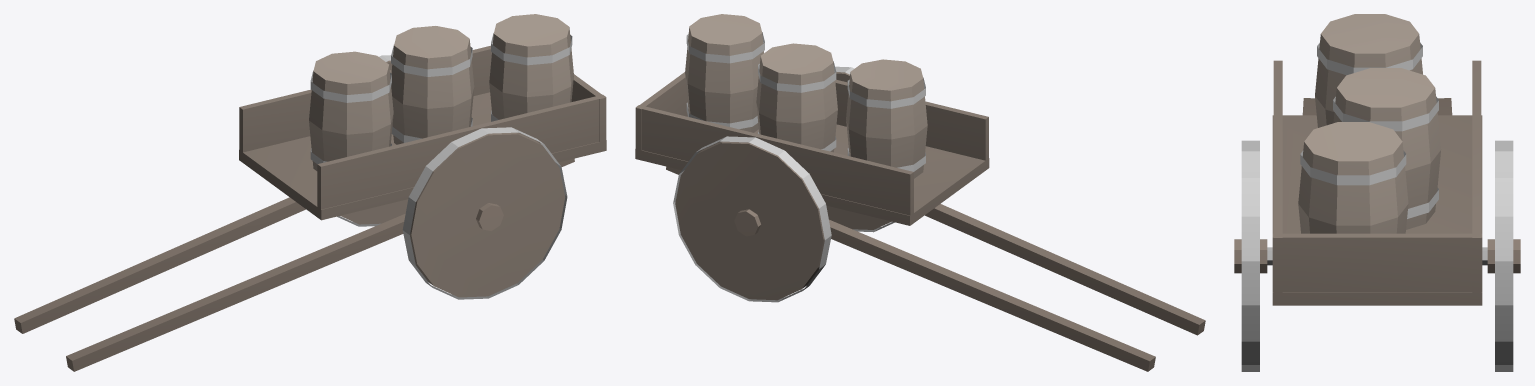
Rendered from cart_0.glb.
3 renders of one model, left to right at view 1: azimuth 30°, elevation 25°; view 2: azimuth 150°, elevation 25°; view 3: azimuth 270°, elevation 25°, orthographic. The views are drawn at different scales.
Visible parts, largest first — view 1: cart_0; view 2: cart_0; view 3: cart_0.
Boxes of the visible parts, left/top/right/bottom form: cart_0: left=14, top=14, right=606, bottom=371; cart_0: left=635, top=14, right=1205, bottom=371; cart_0: left=1234, top=14, right=1520, bottom=371.
Size of the model in its own units: 4.21 by 1.65 by 1.57.
